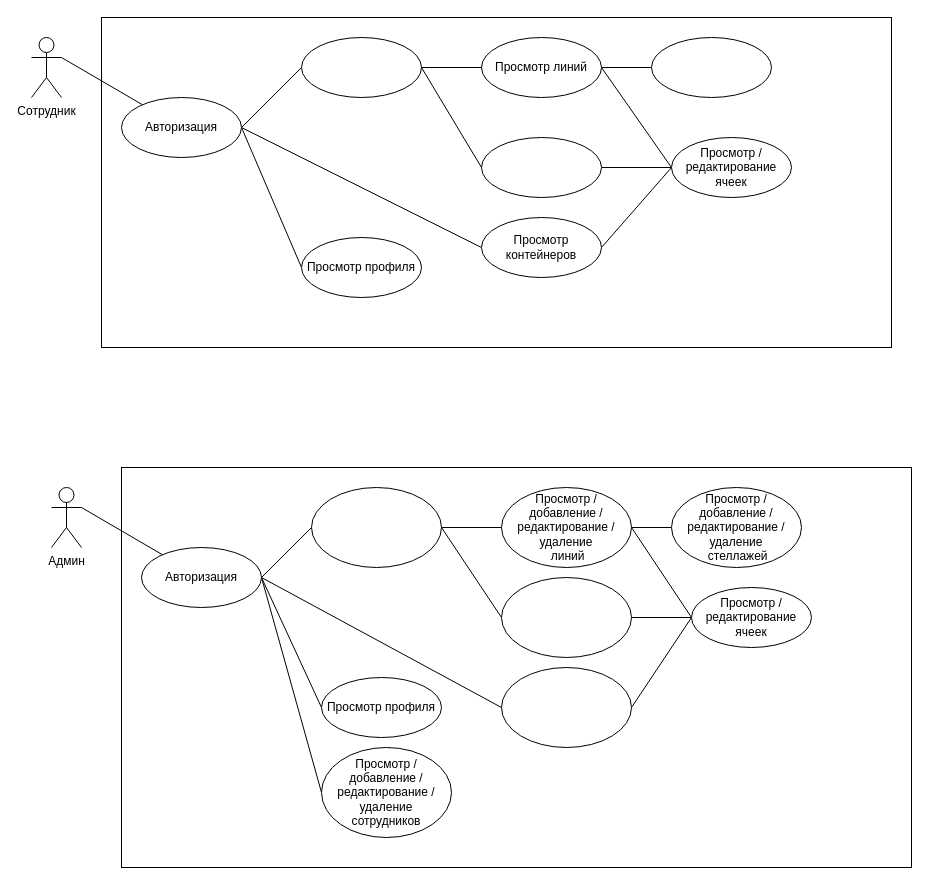
Image size: 929x885. Some labels were removed from this diagram. The shapes that lost their labels are listed below. From the top down, each one's box as (x1, y1, x2, y2) in pixels, then its label:
(300, 36, 422, 98): Просмотр складов
(650, 36, 772, 98): Просмотр стеллажи
(480, 136, 602, 198): Просмотр зон
(310, 486, 442, 568): Просмотр / добавление / редактирование / удаление складов
(500, 576, 632, 658): Просмотр / добавление / редактирование / удаление зон
(500, 666, 632, 748): Просмотр / добавление / редактирование / удаление контейнеров
